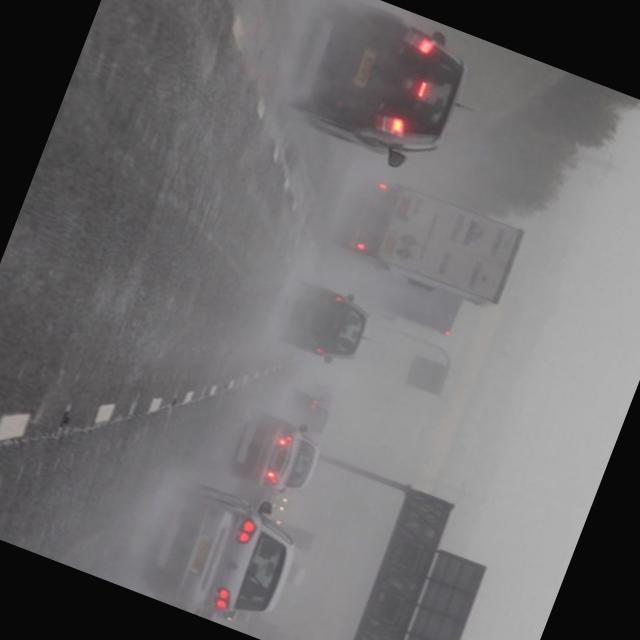Car: (277, 0, 484, 177), (139, 462, 318, 640), (269, 274, 380, 371), (224, 402, 329, 503), (274, 382, 346, 439)
Truck: (320, 159, 534, 322)
